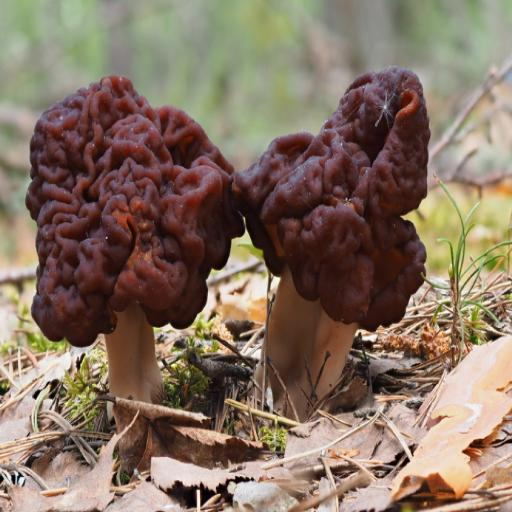mushroom: (25, 59, 448, 407)
